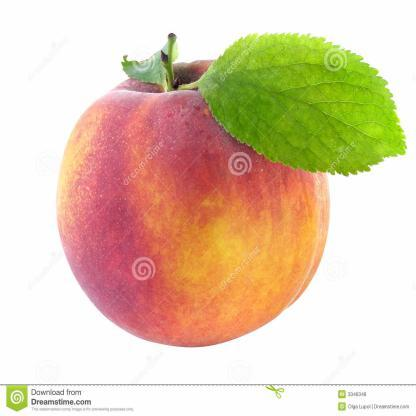Peach leaf: (198, 26, 412, 177)
